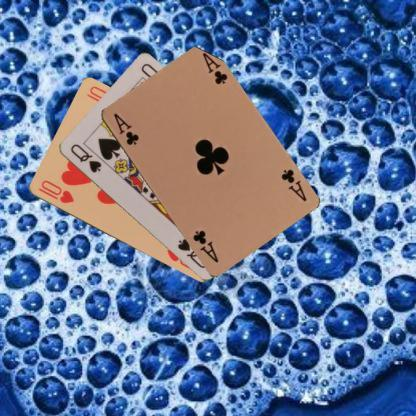10h: (35, 177, 75, 205)
Ac: (110, 110, 140, 146), (278, 166, 308, 202)
Qs: (67, 140, 103, 174)
